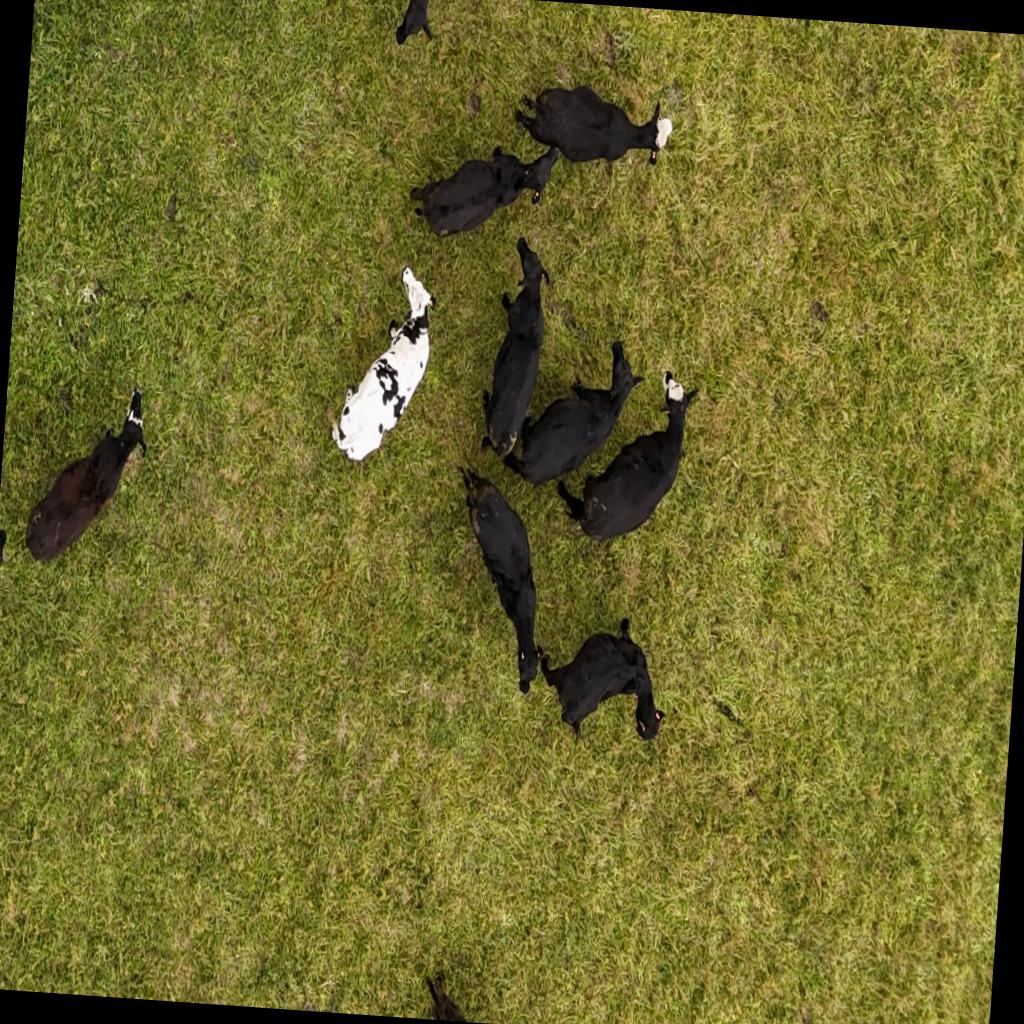cow: (552, 363, 697, 553), (503, 326, 646, 502), (330, 254, 444, 474), (22, 384, 153, 574), (445, 467, 552, 694), (506, 76, 674, 200), (530, 609, 673, 747), (477, 233, 556, 465), (410, 136, 559, 246)
